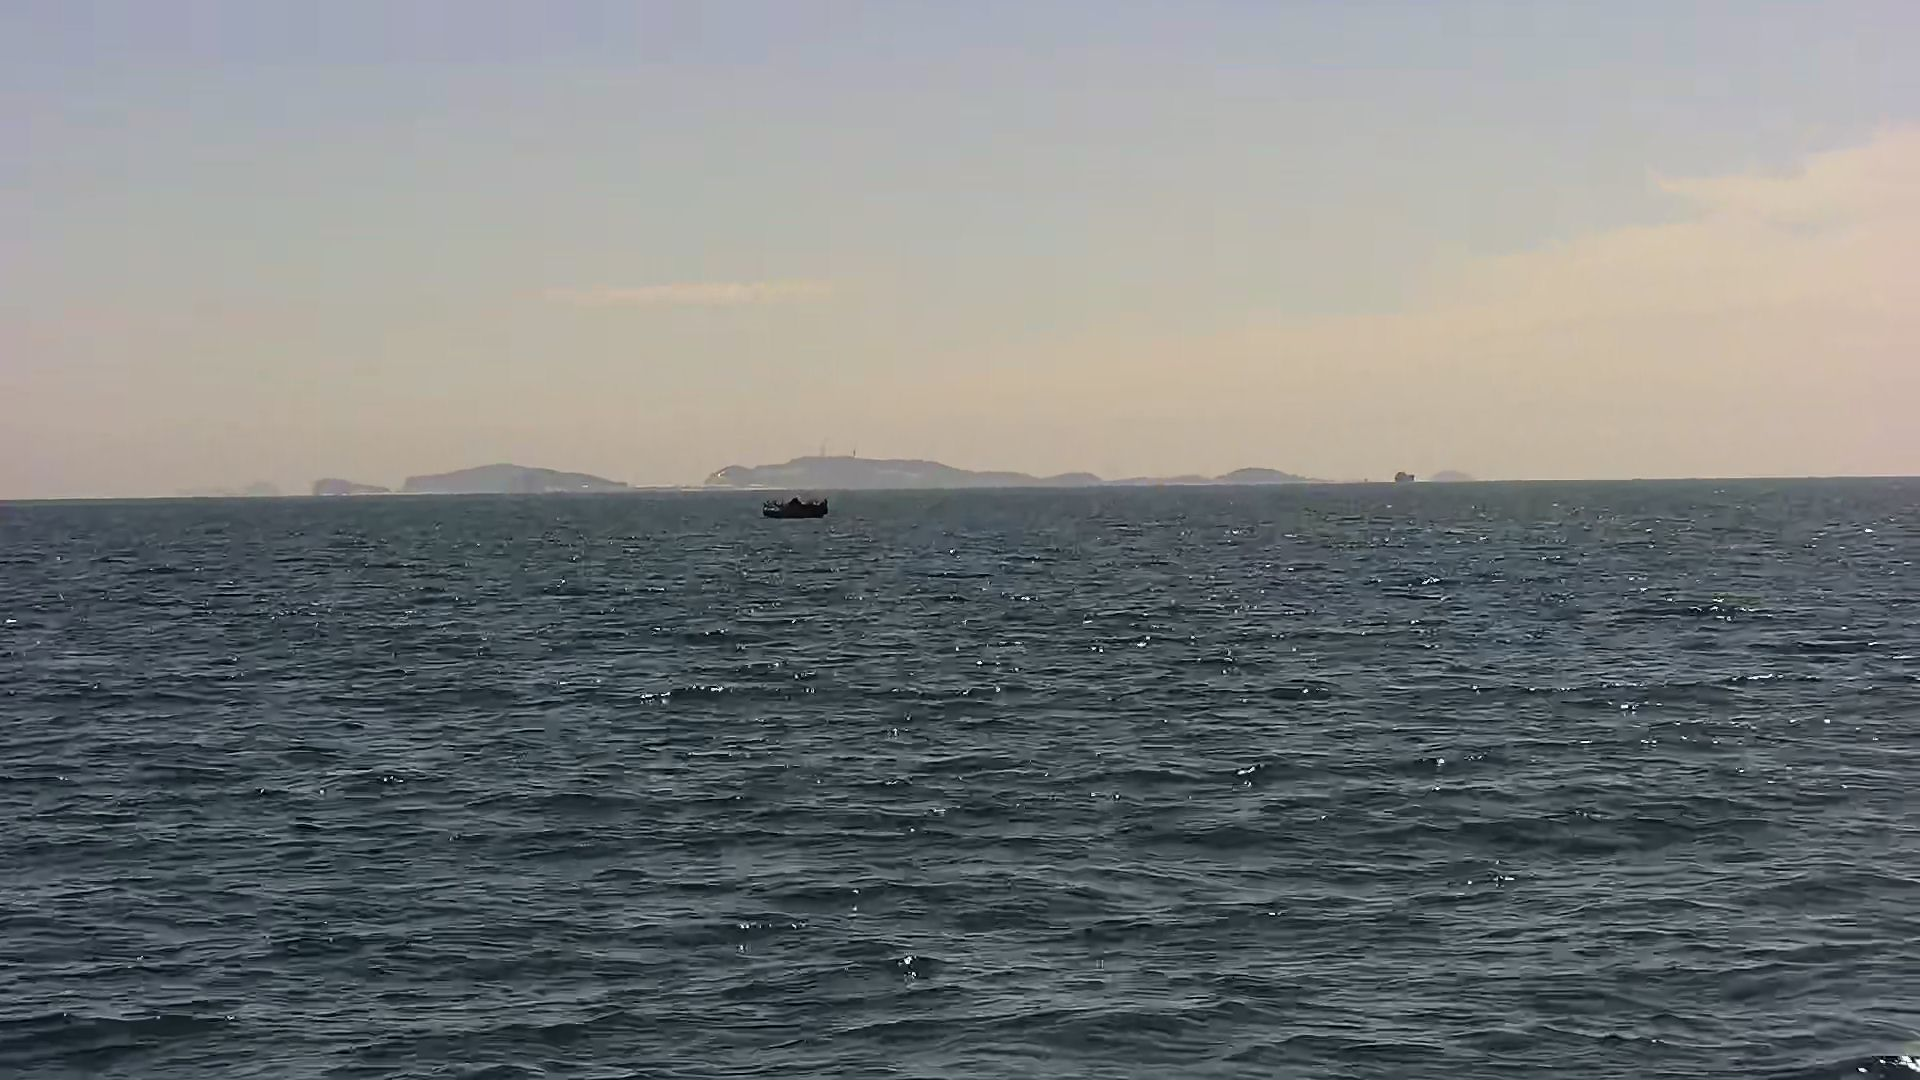boat: (760, 491, 828, 521)
rock: (702, 444, 1350, 487), (400, 460, 634, 488), (306, 469, 386, 504), (1429, 462, 1478, 485)
